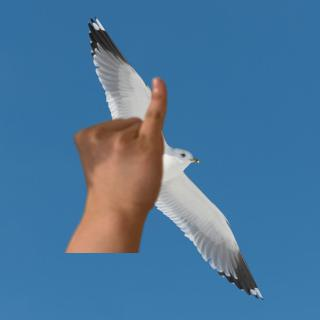FINE: (66, 74, 171, 218)
